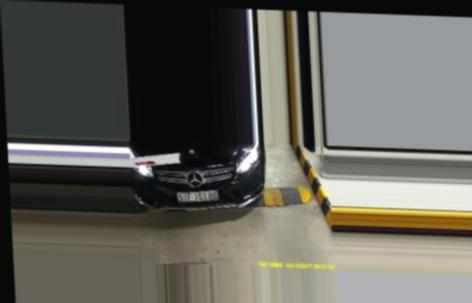License_Plate: (174, 189, 220, 204)
